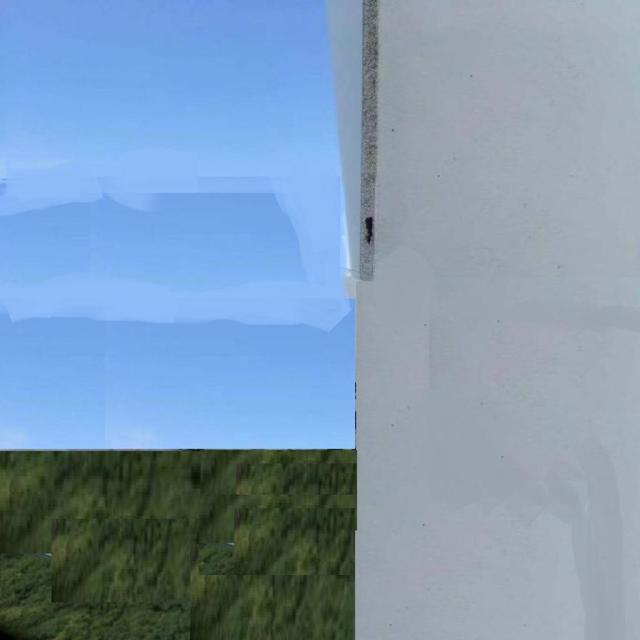corrosion: (358, 3, 380, 288)
